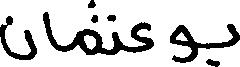X: (0, 11, 35, 64), (169, 20, 198, 66), (81, 0, 100, 59), (133, 17, 151, 57), (111, 10, 120, 59), (228, 19, 239, 51), (46, 7, 53, 51)
